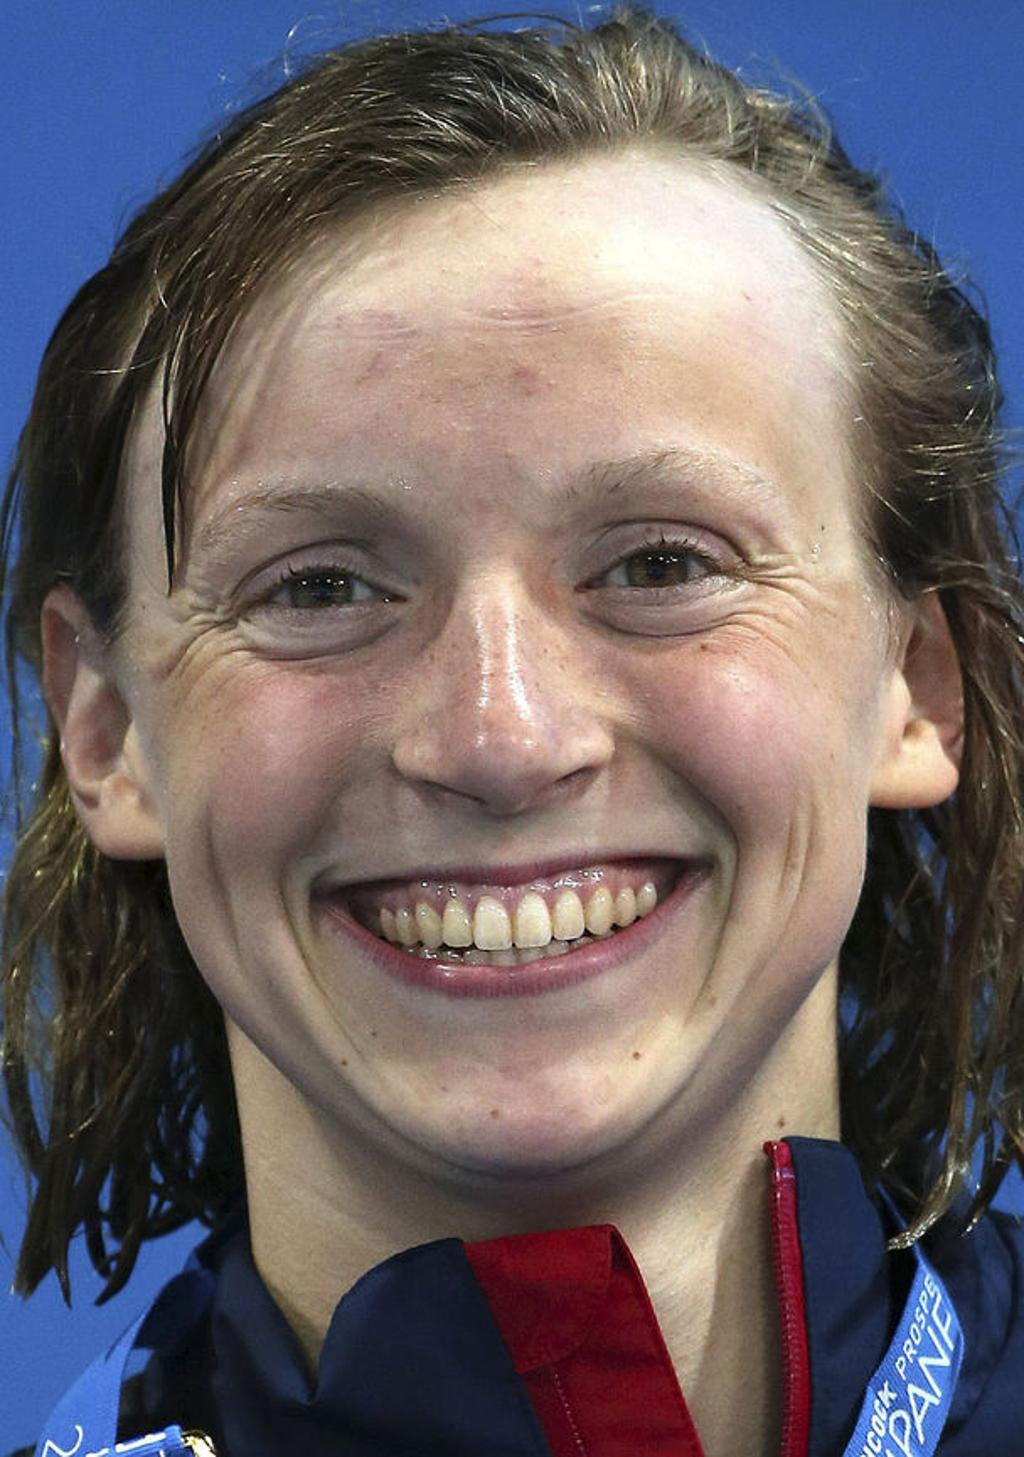face: (157, 308, 871, 1178)
